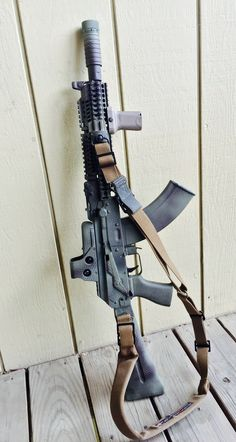Arma Real: (70, 15, 198, 400)
